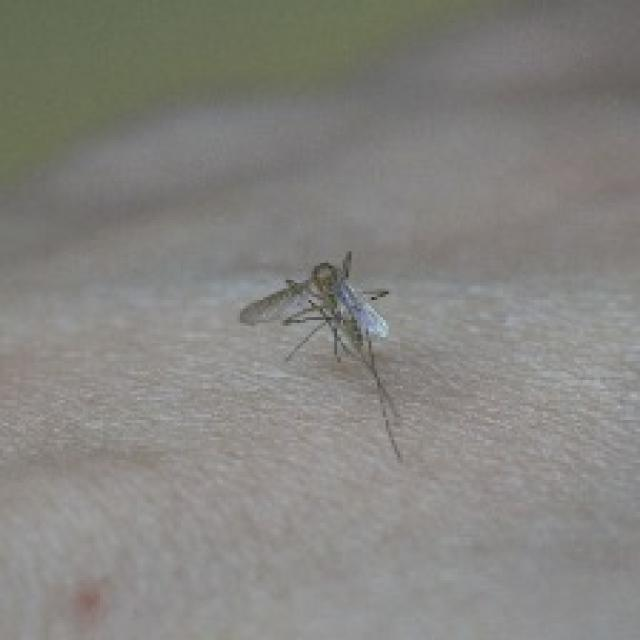culex: (237, 246, 406, 460)
